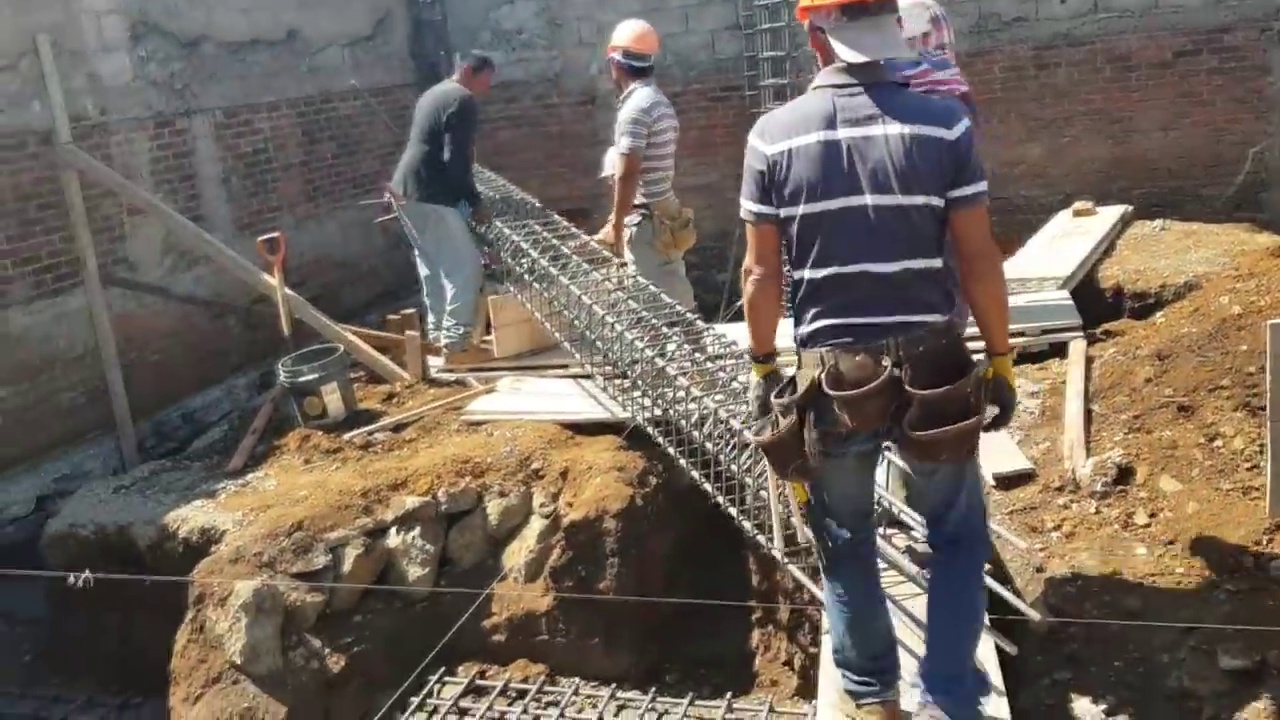helmet: (604, 17, 661, 68)
helmet-off: (794, 2, 915, 76), (448, 51, 493, 94)
helmet-on: (604, 19, 660, 98)
person: (724, 0, 1055, 696), (387, 43, 495, 369), (592, 14, 685, 296), (895, 0, 977, 106)
